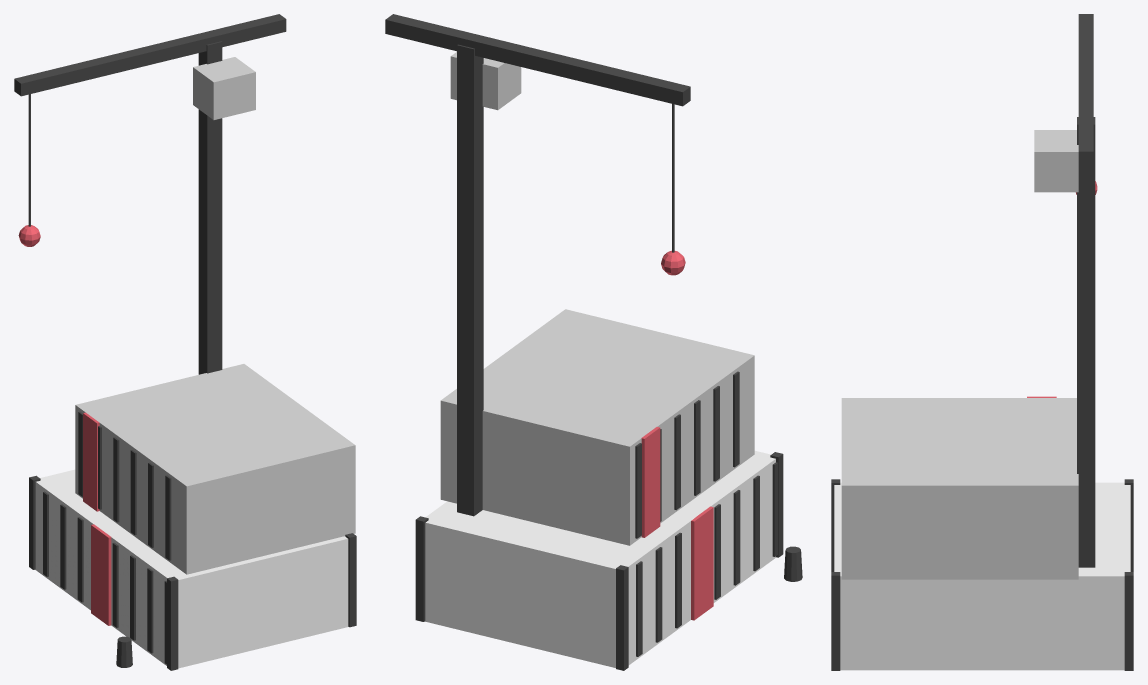
File: Containers.glb
3 views of the same model, side by side, from view 1: azimuth 30°, elevation 25°; view 2: azimuth 150°, elevation 25°; view 3: azimuth 270°, elevation 25° (orthographic). The views are drawn at different scales.
Visible parts, largest first — view 1: Containers; view 2: Containers; view 3: Containers.
Part boxes in pixels (x1,y1,x2,y2): Containers: (14,14,356,670); Containers: (385,14,802,670); Containers: (831,14,1133,670).
Bounding box in the file's own units: 4.42 × 8.1 × 4.08.
